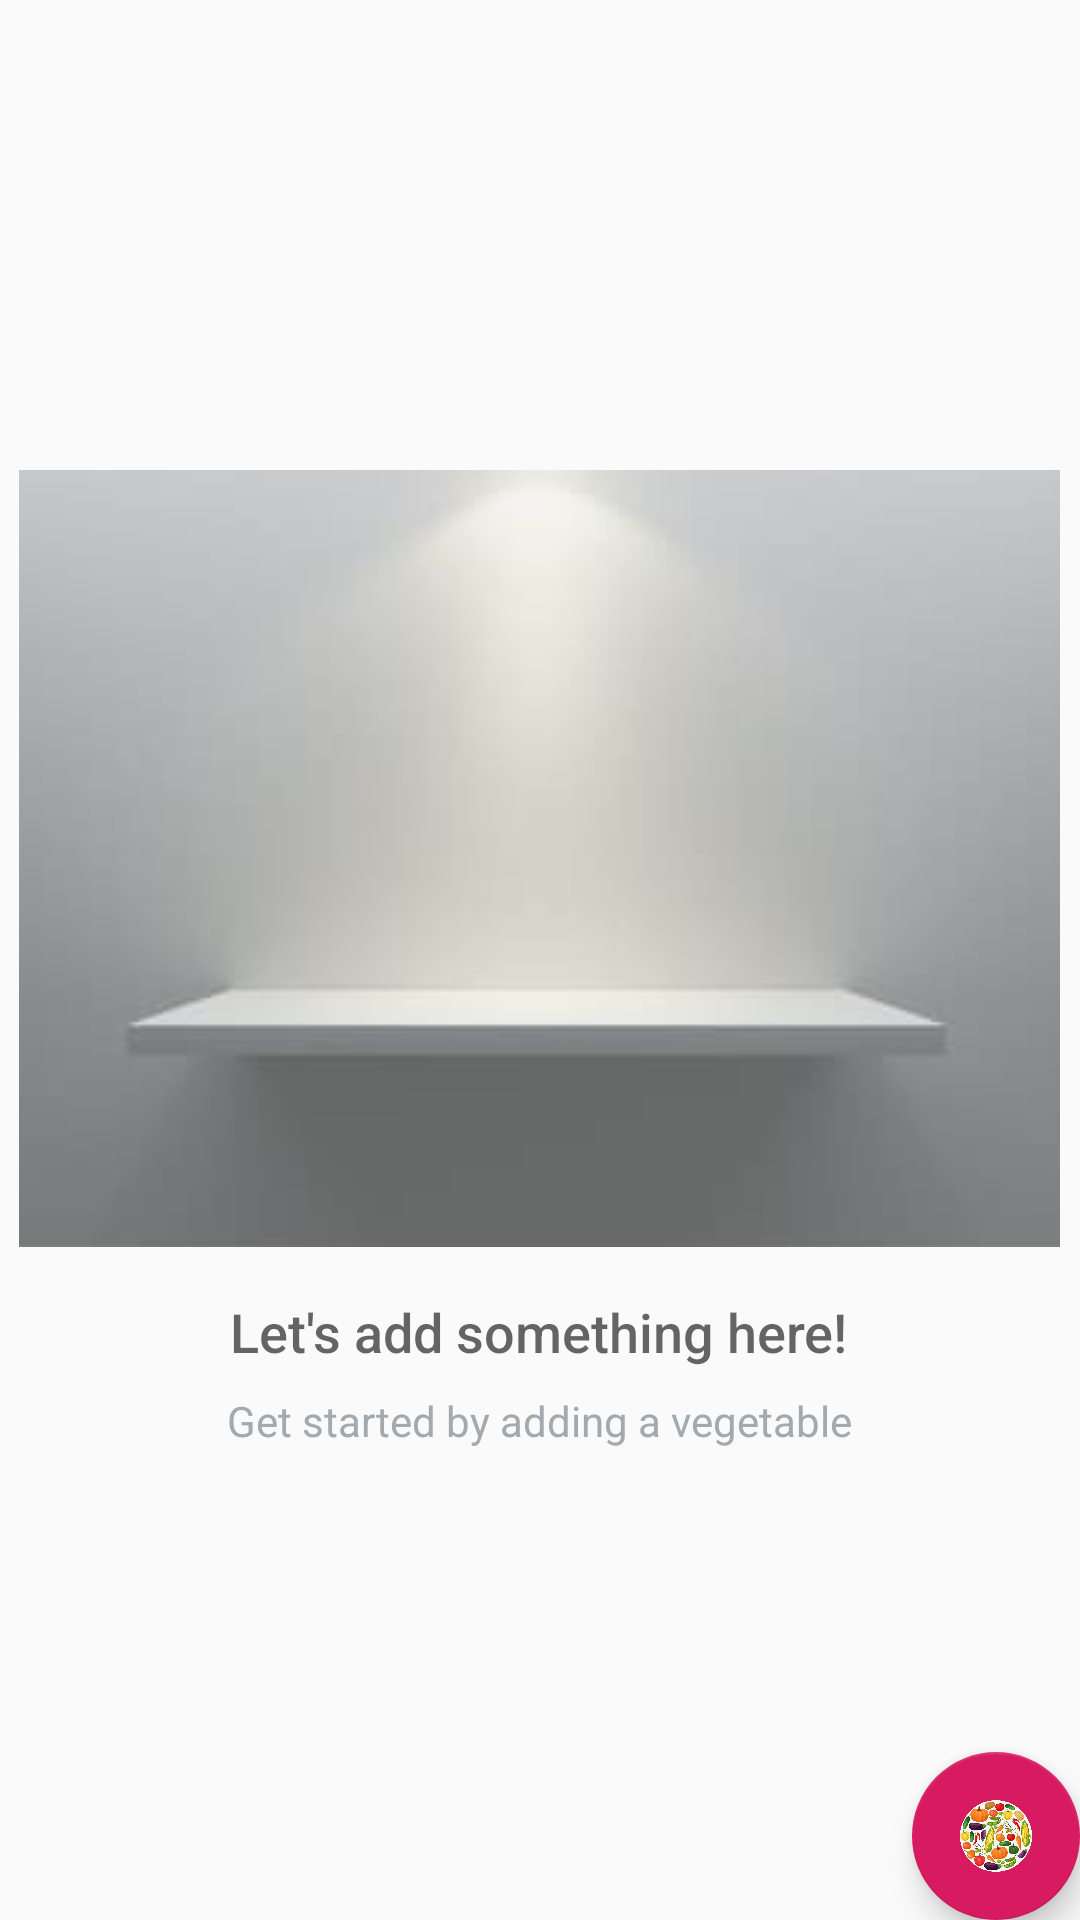

Locate icon controls on the screen. Image size 1080px×1920px, boxes as [x1, y1, x2, y2].
veggies: [912, 1752, 1080, 1920]
